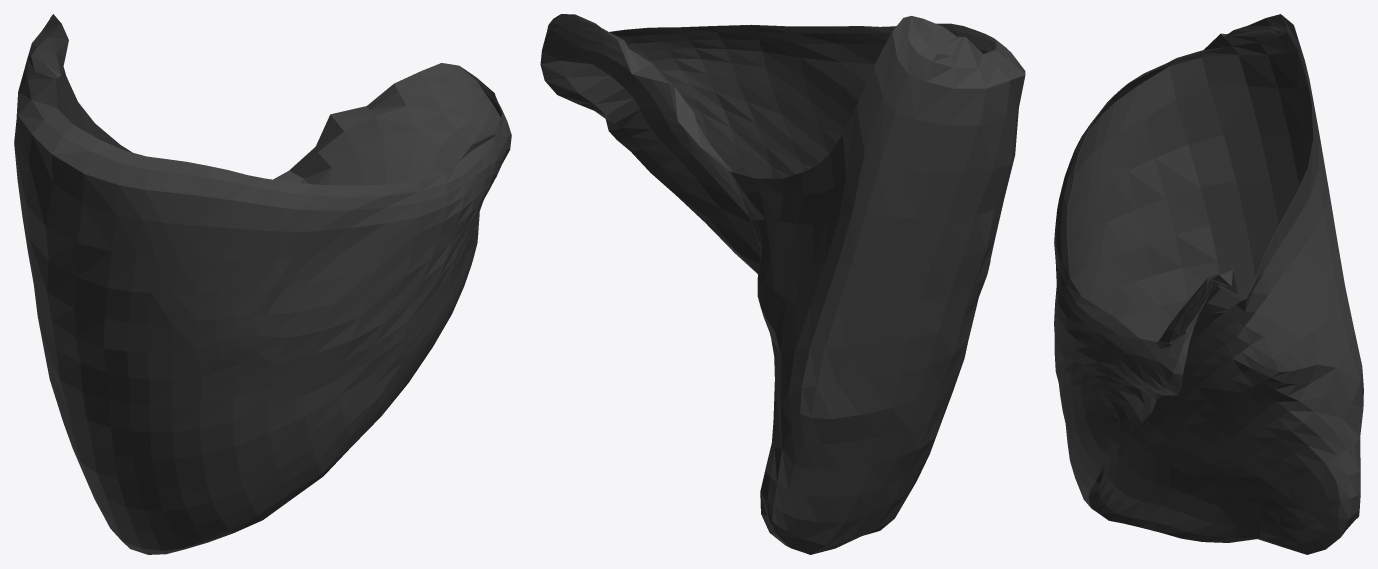
The model's file is Lung_R_caudal_lobe.glb.
3 views of the same model, side by side, from view 1: azimuth 30°, elevation 25°; view 2: azimuth 150°, elevation 25°; view 3: azimuth 270°, elevation 25° (orthographic). The views are drawn at different scales.
Visible parts, largest first — view 1: Lung_R_caudal_lobe; view 2: Lung_R_caudal_lobe; view 3: Lung_R_caudal_lobe.
Part boxes in pixels (x1,y1,x2,y2): Lung_R_caudal_lobe: (14, 14, 511, 554); Lung_R_caudal_lobe: (540, 14, 1025, 554); Lung_R_caudal_lobe: (1054, 14, 1363, 554).
Bounding box in the file's own units: 0.7061 × 0.7658 × 0.4254.
1 material, 1 textured.
